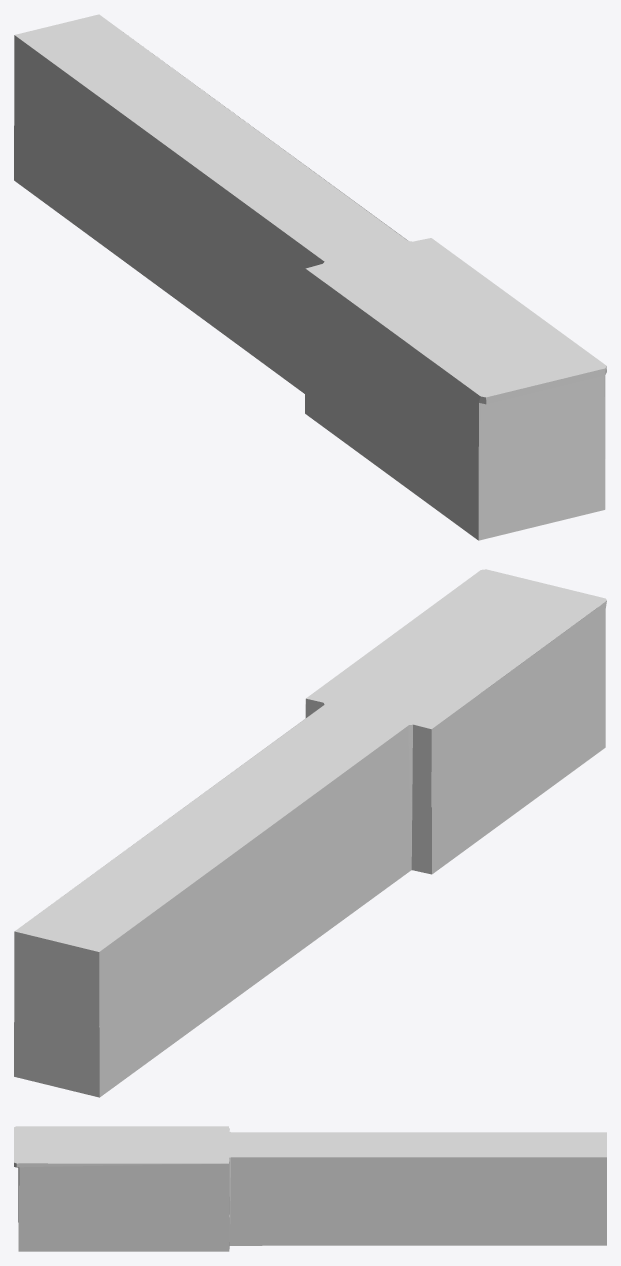
The model's file is piano_key_D.gltf.
3 views of the same model, one above another, from view 1: azimuth 30°, elevation 25°; view 2: azimuth 150°, elevation 25°; view 3: azimuth 270°, elevation 25° (orthographic). The views are drawn at different scales.
Visible parts, largest first — view 1: defaultMaterial.001; view 2: defaultMaterial.001; view 3: defaultMaterial.001.
Part boxes in pixels (left/top/right/bottom): defaultMaterial.001: left=14, top=14, right=606, bottom=540; defaultMaterial.001: left=14, top=569, right=606, bottom=1097; defaultMaterial.001: left=14, top=1126, right=606, bottom=1251.
Bounding box in the file's own units: 0.4956 × 0.5391 × 3.29.
Materials: 1 (1 with a texture image).
